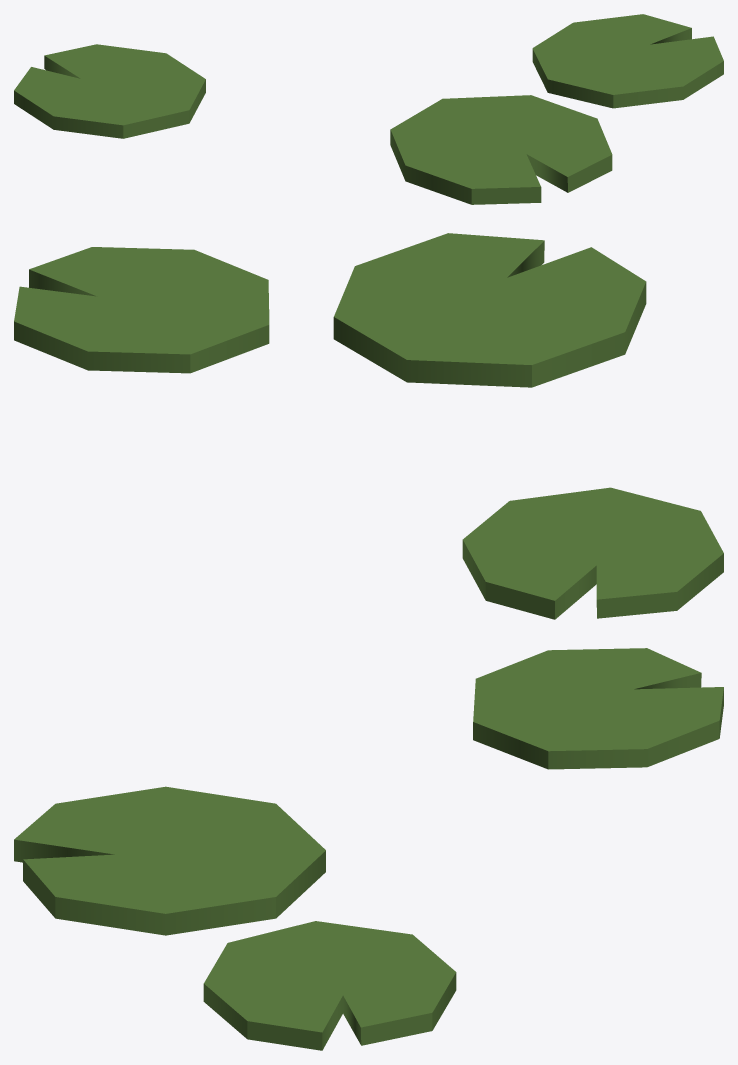
The model's file is lillypad.glb.
3 views of the same model, one above another, from view 1: azimuth 30°, elevation 25°; view 2: azimuth 150°, elevation 25°; view 3: azimuth 270°, elevation 25° (orthographic). The views are drawn at different scales.
Visible parts, largest first — view 1: SM_Env_Lillypads_01; view 2: SM_Env_Lillypads_01; view 3: SM_Env_Lillypads_01.
Boxes of the visible parts, x1,y1,x2,y2 form: SM_Env_Lillypads_01: (14, 14, 723, 204); SM_Env_Lillypads_01: (14, 233, 723, 619); SM_Env_Lillypads_01: (14, 648, 723, 1050).
Size of the model in its own units: 86.24 by 2.27 by 67.31.
Materials: 1 (1 with a texture image).
